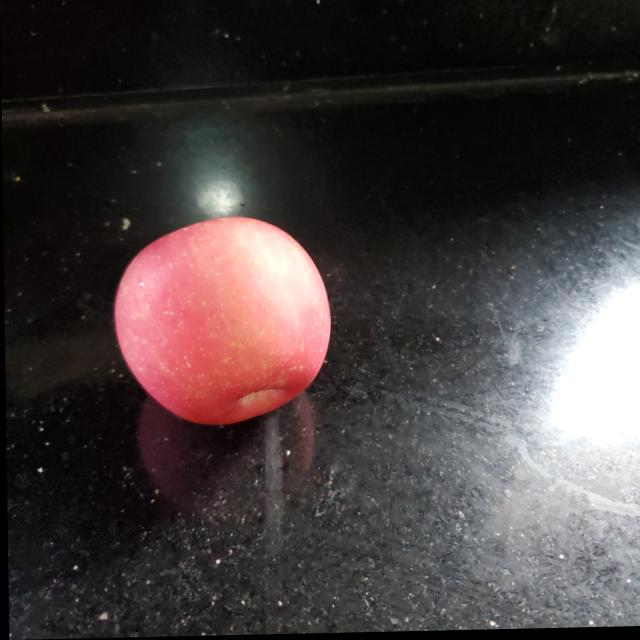apple: (109, 217, 328, 427)
